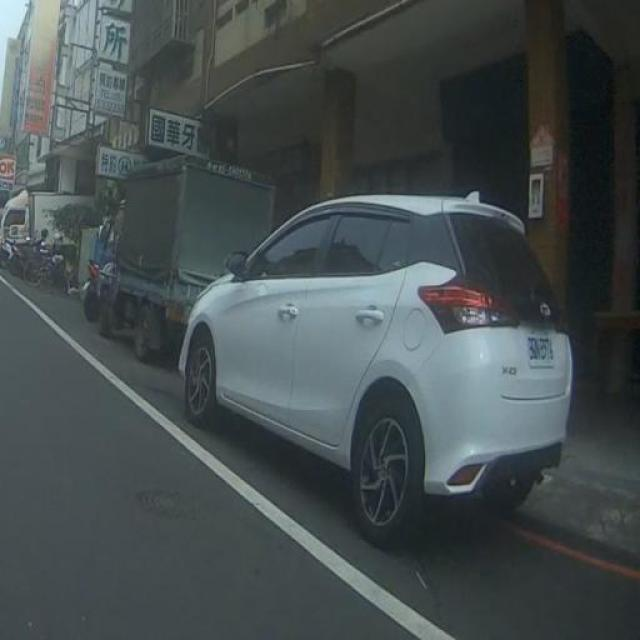illegalparking: (82, 160, 608, 528)
